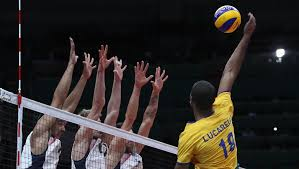ball: (212, 5, 241, 34)
